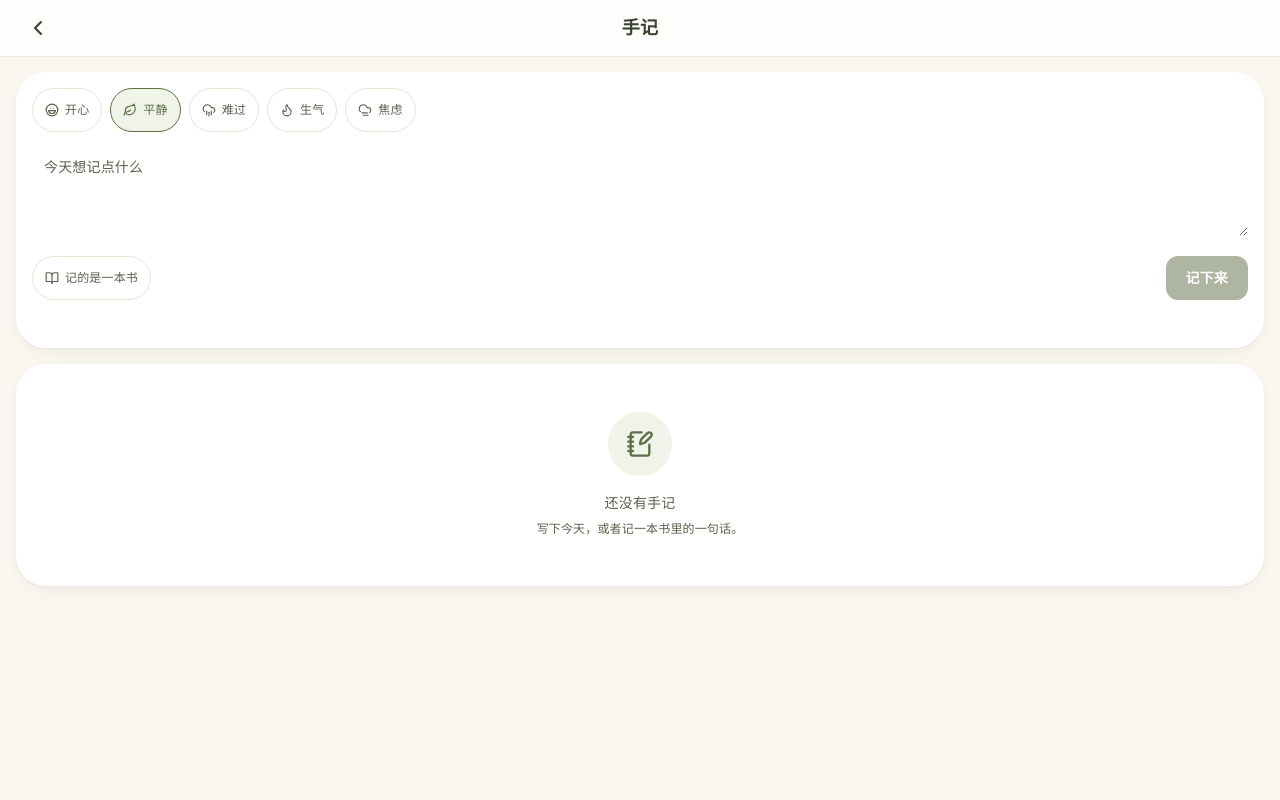
Test: 手记与读书接起来 › 按下「记的是一本书」才去取书架，只写日记的人不多花这一次请求
The width and height of the screenshot is (1280, 800).
Expected: the text "还没有手记" is shown, [605,494,675,511]
Click the button "记的是一本书": (92, 278) [32,256,151,300]
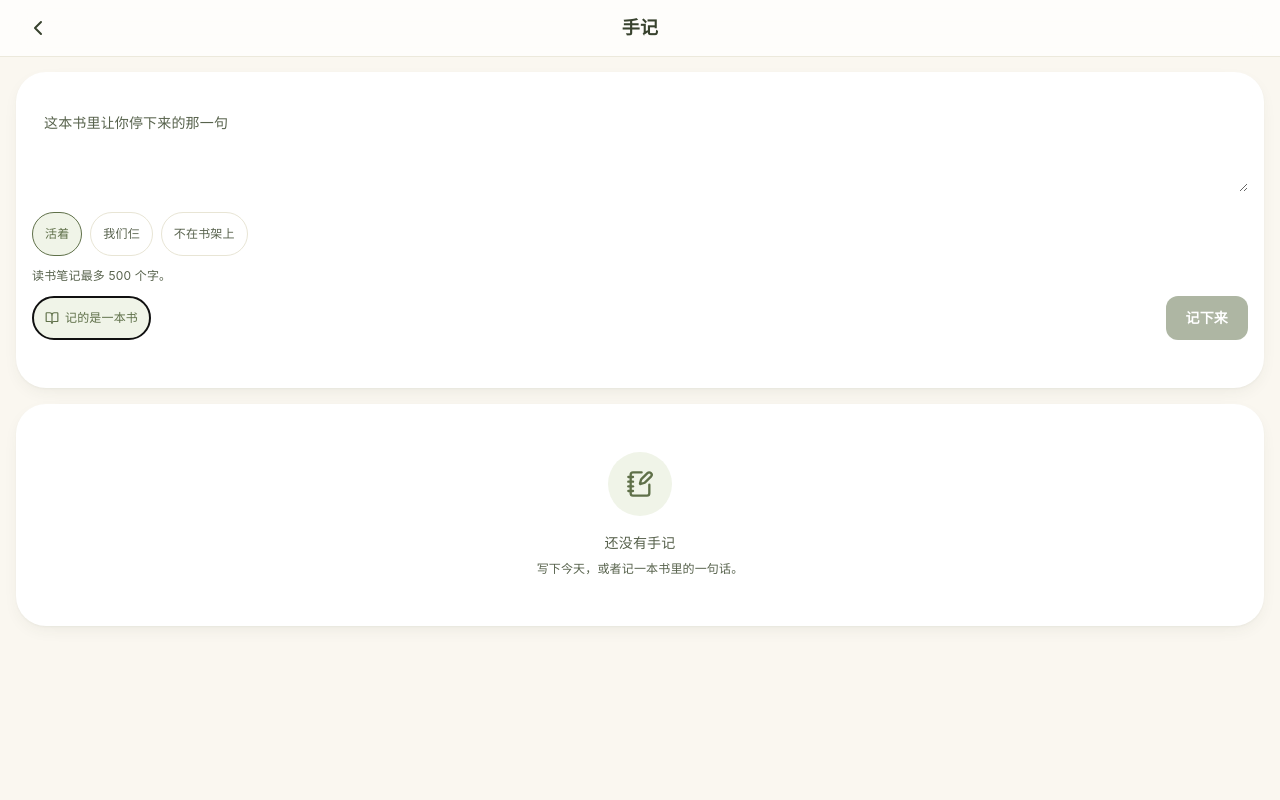
Result: the element named "记到哪本书下" is shown at [32,212,248,256]
